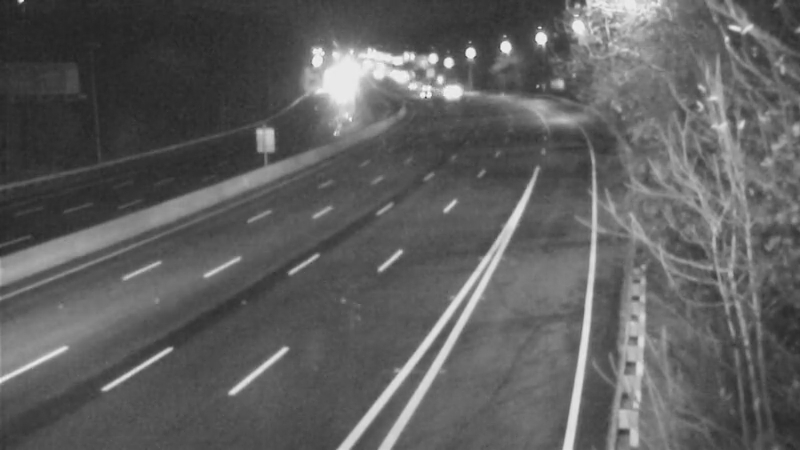vehicle: (429, 70, 479, 120), (402, 74, 452, 124)
